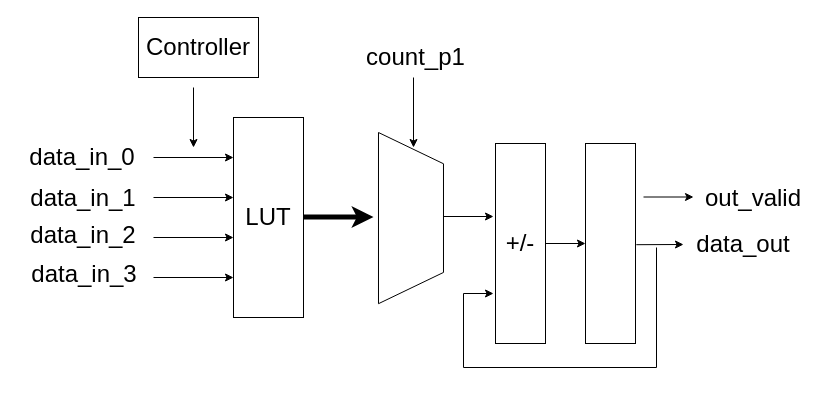
This 825x393 diagram has some shape labels left out. The shapes that lost their labels are listed below. From the top down, each one's centre as x and y in pixels, then its label:
the point at 411,218: MUX
the point at 610,243: Reg
